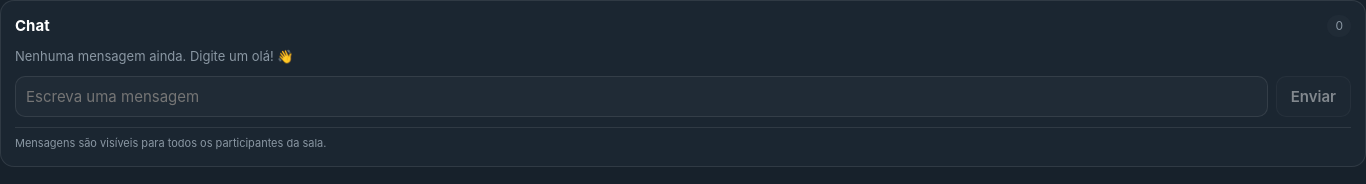
it: Chat em tempo real › envia o texto digitado e limpa o campo
Type "Oi pessoal" into the field labelled "mensagem".
click(641, 96); type("Oi pessoal")  # box [15,76,1268,117]
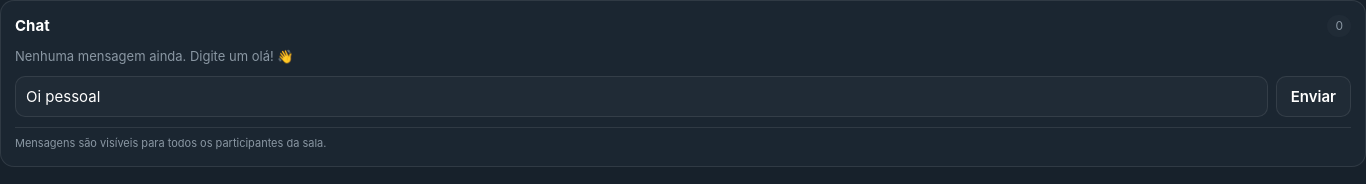
Click the button "Enviar".
click(1313, 96)  # box [1276,76,1351,117]
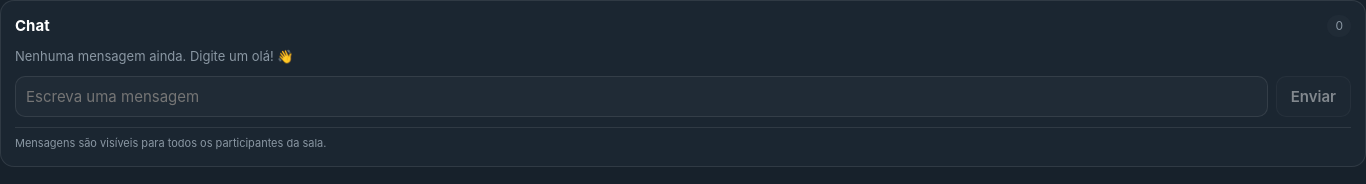
expect the field labelled "mensagem" is empty: met, box [15,76,1268,117]
